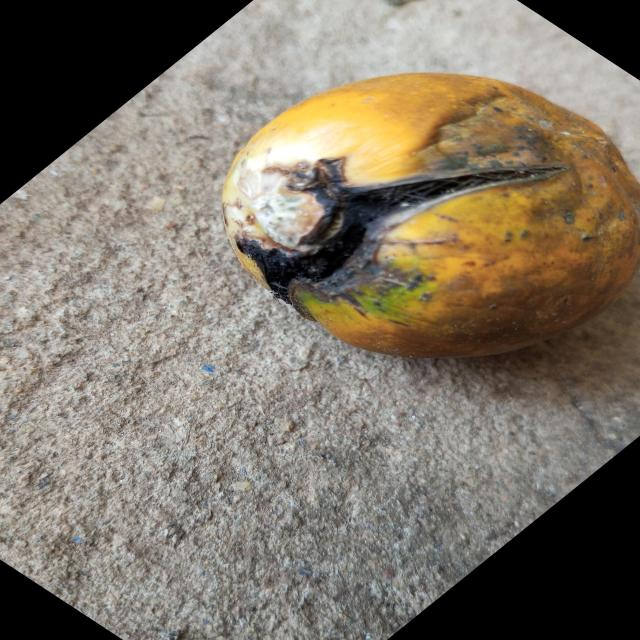damaged: (222, 74, 640, 357)
